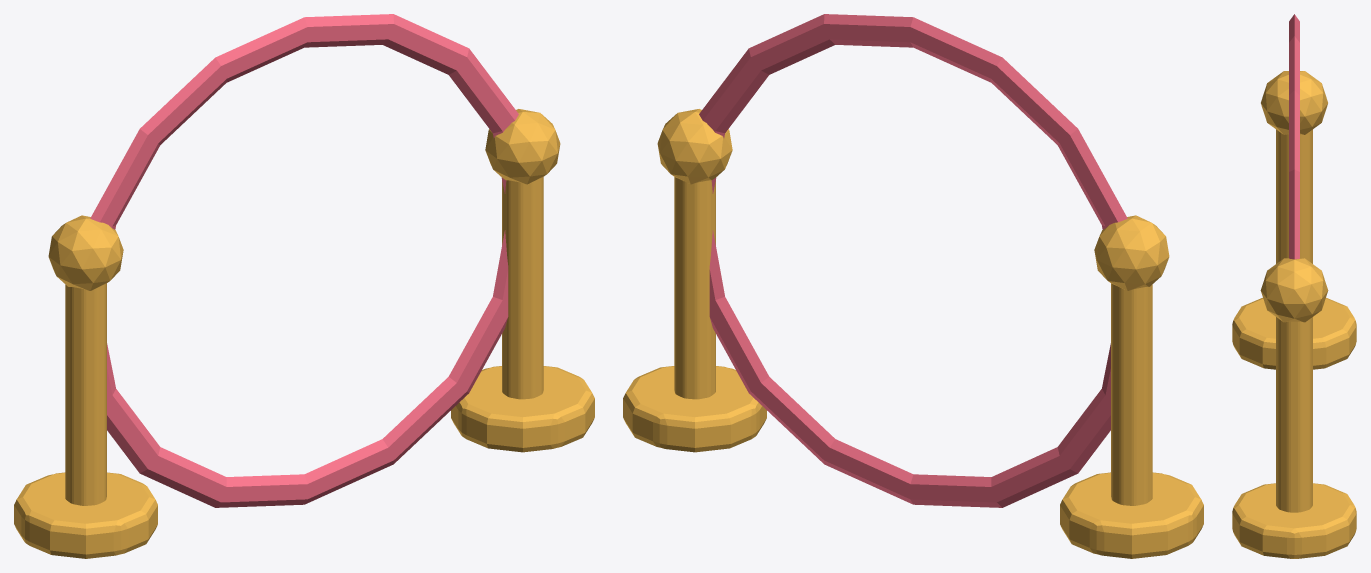
The model's file is rope_barrier.glb.
The picture shows the model from 3 angles, left to right: view 1: azimuth 30°, elevation 25°; view 2: azimuth 150°, elevation 25°; view 3: azimuth 270°, elevation 25°; orthographic projection. The views are drawn at different scales.
Parts seen in each view (by area): view 1: RopeBarrierMesh; view 2: RopeBarrierMesh; view 3: RopeBarrierMesh.
Boxes of the visible parts, box(x1,y1,x2,y2) form: RopeBarrierMesh: box(14, 14, 594, 558); RopeBarrierMesh: box(623, 14, 1203, 558); RopeBarrierMesh: box(1232, 14, 1356, 558).
Bounding box in the file's own units: 2.69 × 2.24 × 0.5891.
